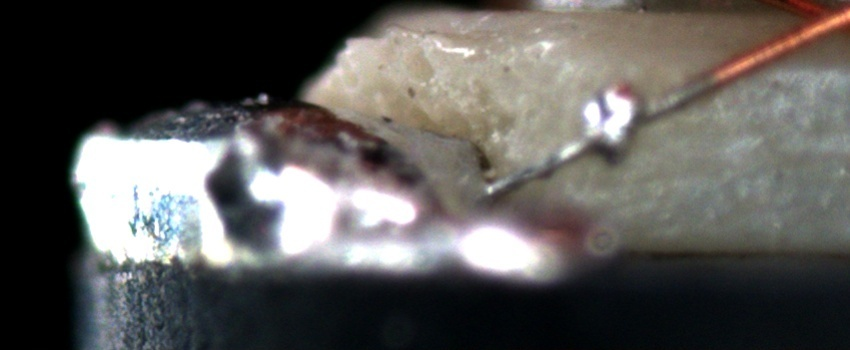CL: (779, 1, 849, 44)
DL: (732, 56, 849, 93)
TB: (568, 81, 648, 172)
TS: (489, 72, 716, 196)
TTCW: (481, 47, 758, 204)
